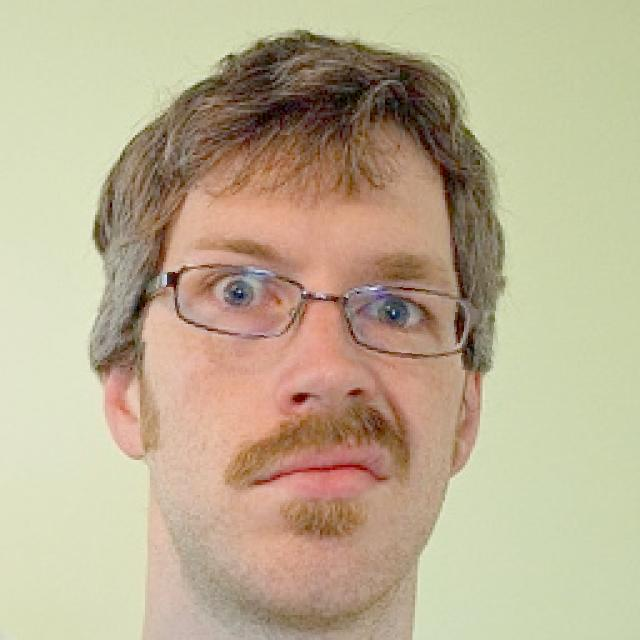glasses: (122, 252, 511, 365)
